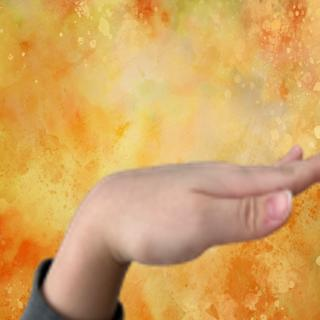Wait: (63, 144, 318, 272)
